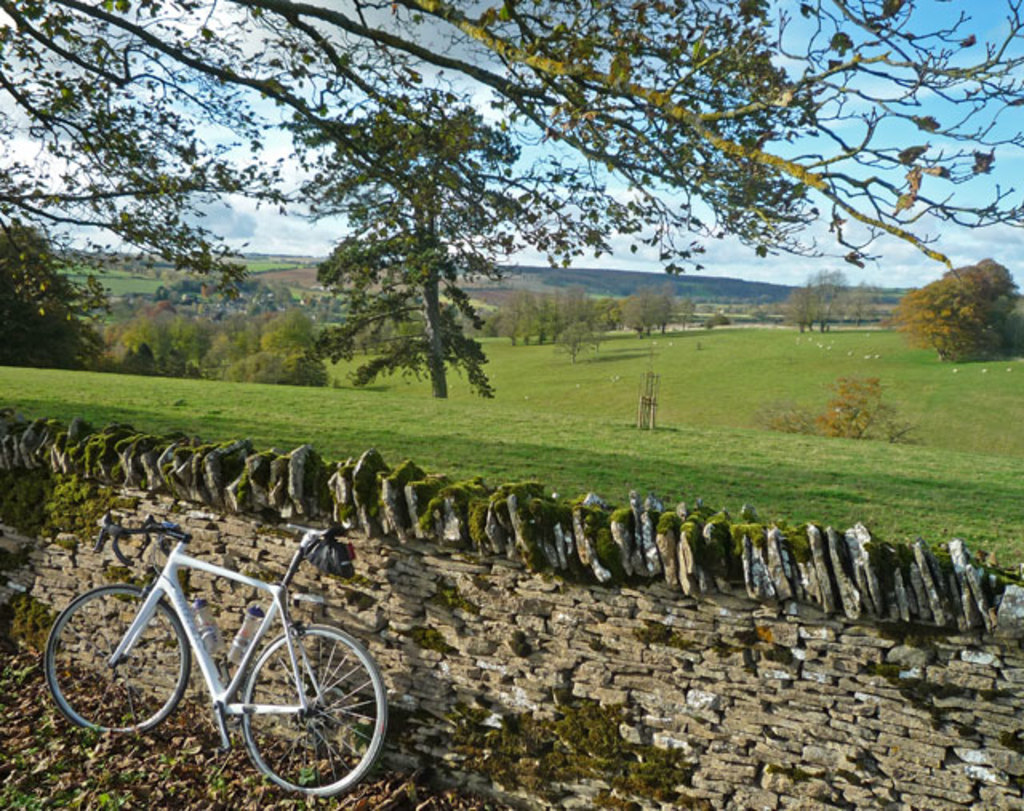Bike_away: (72, 519, 397, 786)
